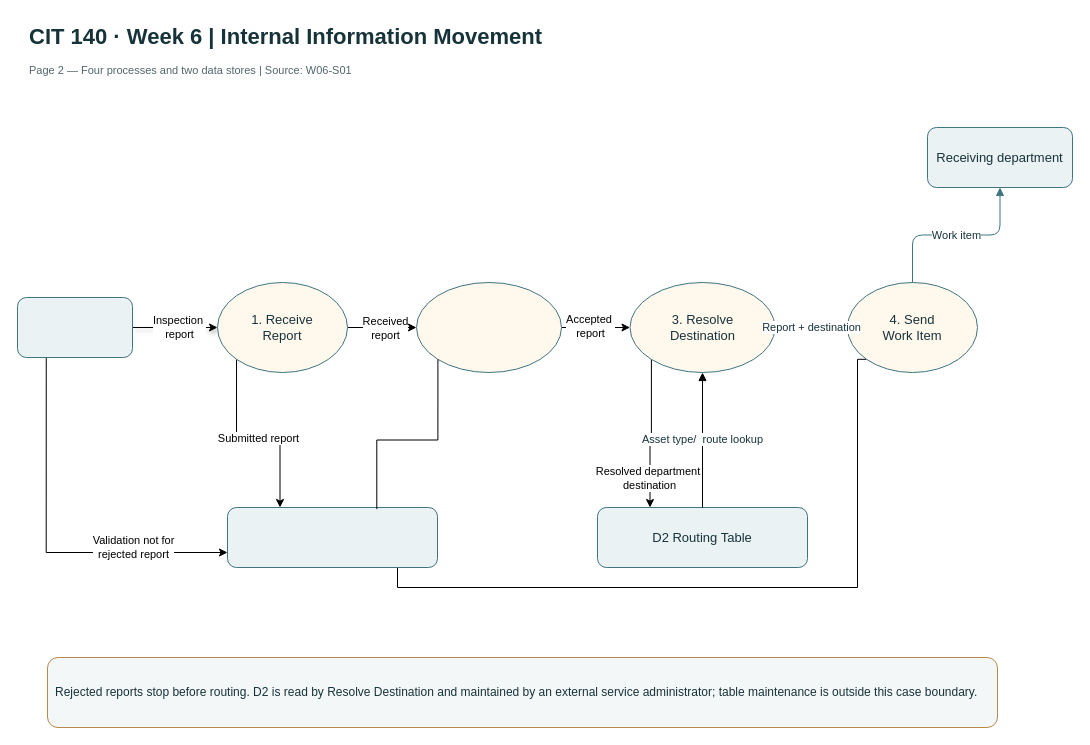
Image size: 1090x745. Some labels were removed from this diagram. Each missing label, with the centre of its shape:
"2. Check Required Fields" belongs at (x=489, y=327).
"D1 Report Register" belongs at (x=332, y=537).
"Field Team" belongs at (x=74, y=327).
